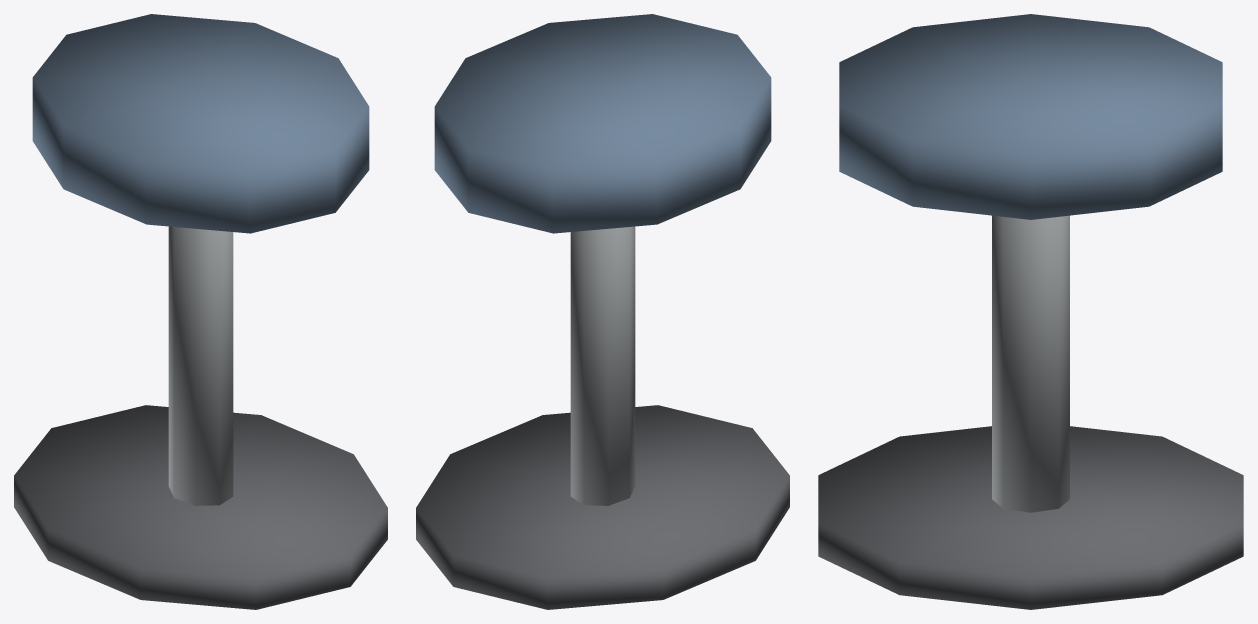
File: lab_stool__deep.glb
3 views of the same model, side by side, from view 1: azimuth 30°, elevation 25°; view 2: azimuth 150°, elevation 25°; view 3: azimuth 270°, elevation 25° (orthographic). The views are drawn at different scales.
Visible parts, largest first — view 1: world; view 2: world; view 3: world.
Boxes of the visible parts, bbox=[...] form: world: bbox=[14, 14, 387, 609]; world: bbox=[416, 14, 789, 609]; world: bbox=[818, 14, 1243, 609].
Bounding box in the file's own units: 0.4 × 0.54 × 0.4641.
